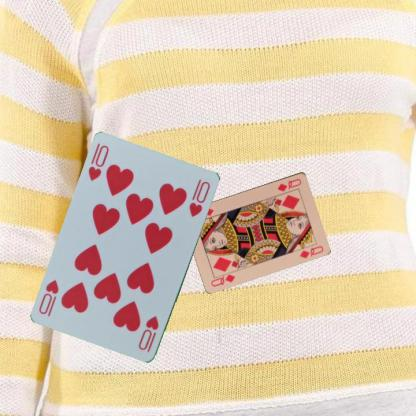10h: (136, 313, 160, 354), (86, 143, 110, 183)
Qd: (209, 268, 236, 288), (274, 176, 303, 192)
